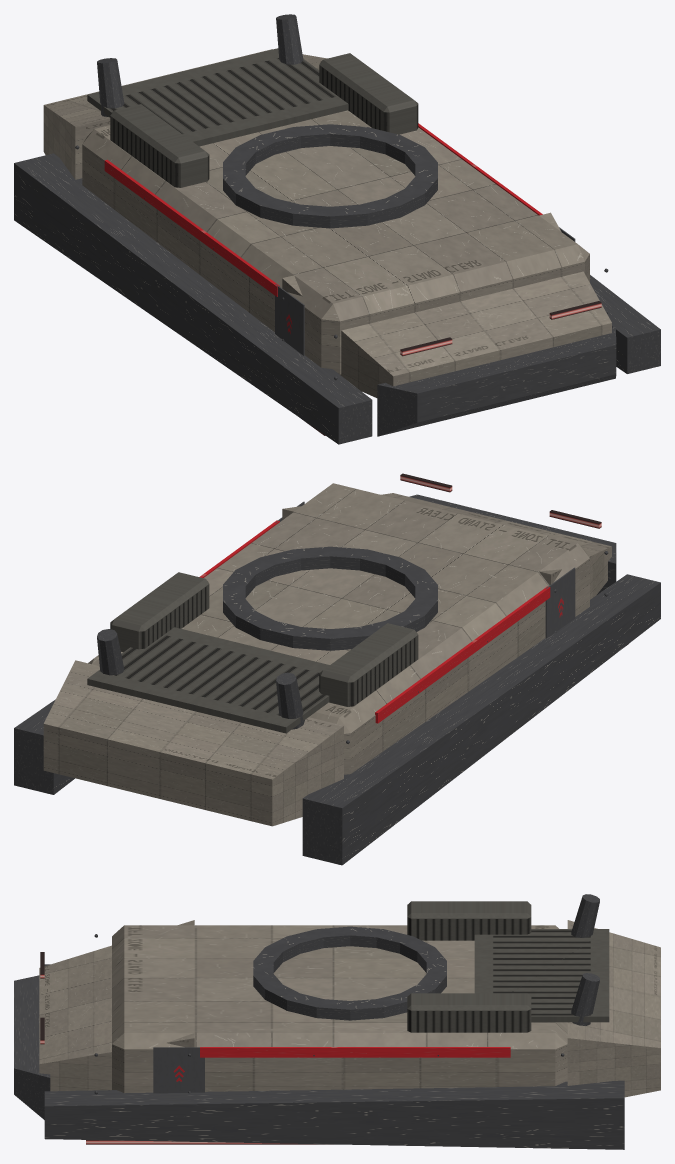
Rendered from tank.obj.
3 views of the same model, one above another, from view 1: azimuth 30°, elevation 25°; view 2: azimuth 150°, elevation 25°; view 3: azimuth 270°, elevation 25° (orthographic). The views are drawn at different scales.
Visible parts, largest first — view 1: ravager_hull; view 2: ravager_hull; view 3: ravager_hull.
Part boxes in pixels (<box>): ravager_hull: <box>14,14,660,444</box>; ravager_hull: <box>14,473,660,865</box>; ravager_hull: <box>14,894,660,1149</box>.
Bounding box in the file's own units: 3.3 × 1.51 × 6.24.
1 material, 1 textured.
